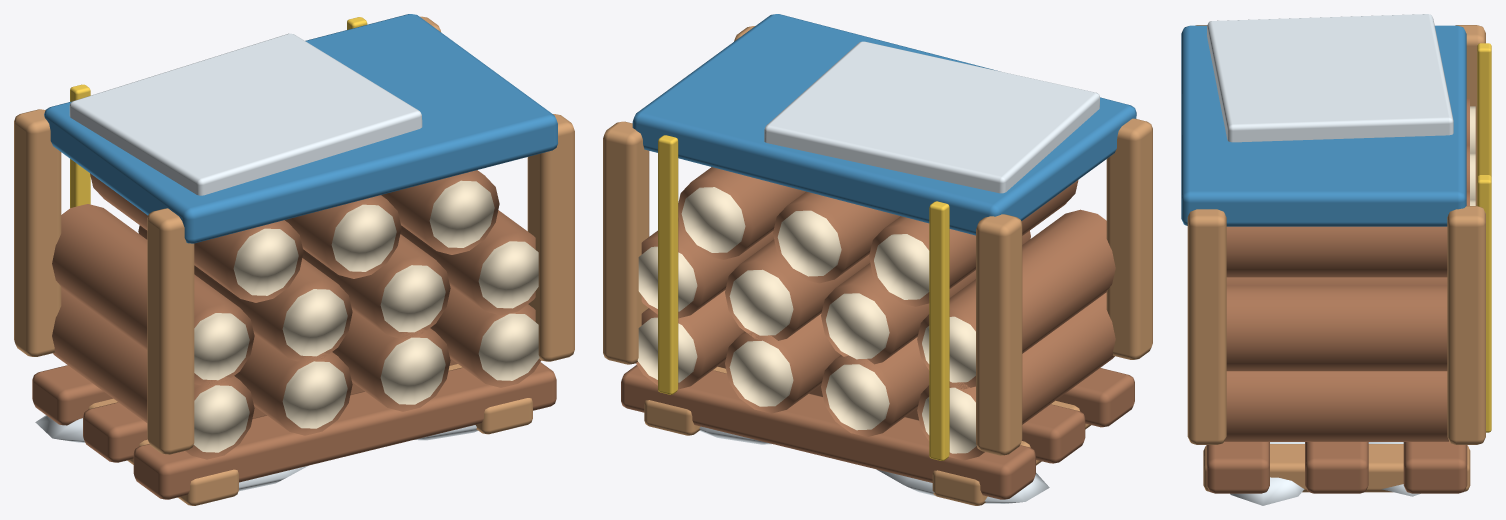
The model's file is wood_stack.glb.
3 views of the same model, side by side, from view 1: azimuth 30°, elevation 25°; view 2: azimuth 150°, elevation 25°; view 3: azimuth 270°, elevation 25° (orthographic). The views are drawn at different scales.
Parts seen in each view (by area): view 1: wood_stack; view 2: wood_stack; view 3: wood_stack.
Part boxes in pixels (x1,y1,x2,y2): wood_stack: [14, 14, 574, 505]; wood_stack: [603, 14, 1152, 505]; wood_stack: [1181, 14, 1491, 505].
Bounding box in the file's own units: 1.45 × 1.13 × 0.9575.
